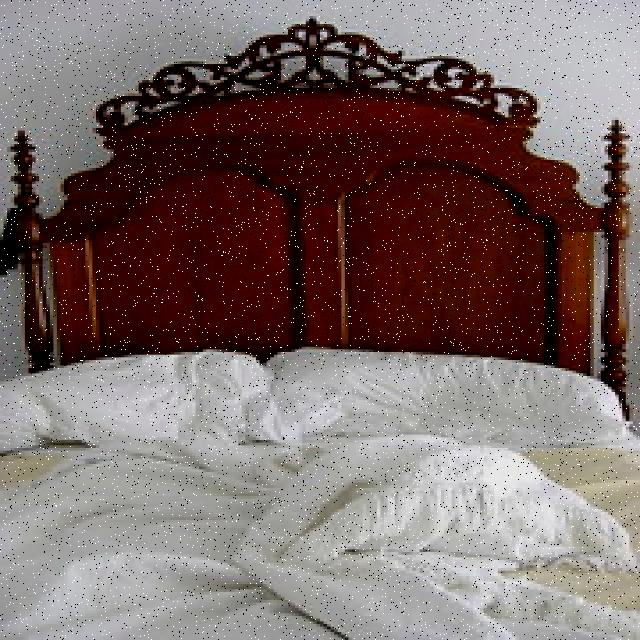bed: (0, 343, 636, 640)
